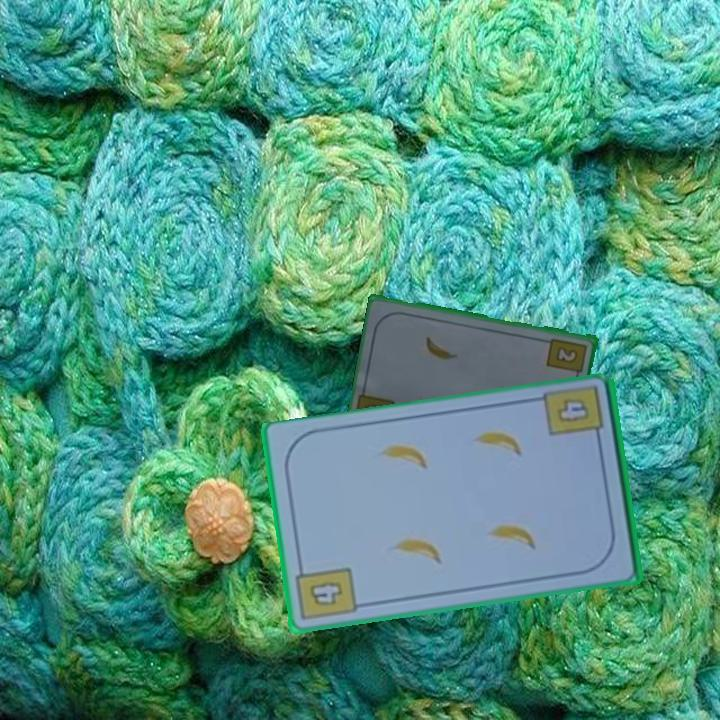2b: (544, 335, 590, 381)
4b: (293, 560, 360, 624), (552, 395, 593, 426)
